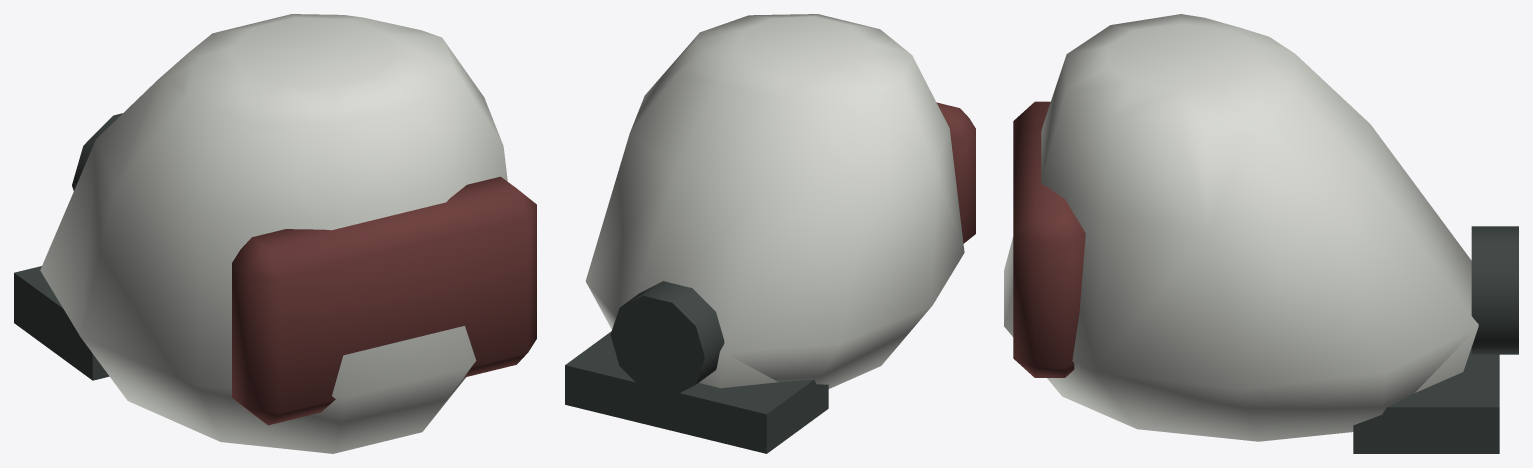
File: cleansweeper.obj
3 views of the same model, side by side, from view 1: azimuth 30°, elevation 25°; view 2: azimuth 150°, elevation 25°; view 3: azimuth 270°, elevation 25° (orthographic). The views are drawn at different scales.
Parts seen in each view (by area): view 1: source_component_000, source_component_001, source_component_003, source_component_002; view 2: source_component_000, source_component_003, source_component_002, source_component_001; view 3: source_component_000, source_component_001, source_component_003, source_component_002.
Boxes of the visible parts, box(x1,y1,x2,y2) form: source_component_000: box(40, 14, 507, 453); source_component_001: box(232, 176, 536, 425); source_component_003: box(14, 266, 109, 380); source_component_002: box(72, 113, 122, 190); source_component_000: box(585, 14, 964, 388); source_component_003: box(565, 331, 828, 453); source_component_002: box(610, 281, 724, 396); source_component_001: box(936, 102, 975, 243); source_component_000: box(1004, 14, 1478, 441); source_component_001: box(1013, 101, 1085, 377); source_component_003: box(1353, 348, 1499, 453); source_component_002: box(1471, 226, 1518, 354).
Bounding box in the file's own units: 0.5 × 0.435 × 0.5983.
